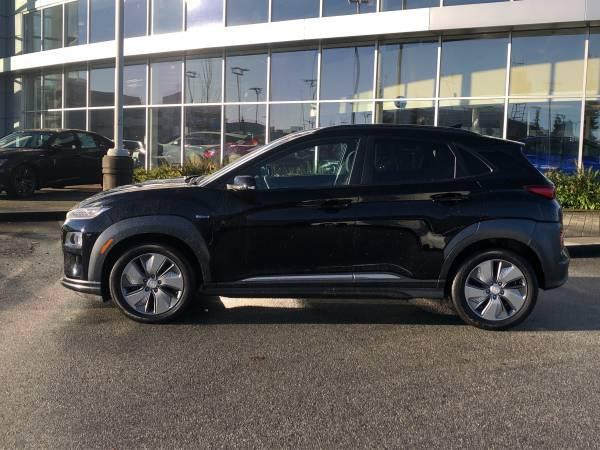Front_Bumper: (56, 216, 115, 304)
Front_Fender: (72, 190, 215, 294)
Front_Left_Door: (202, 190, 349, 300)
Front_Left_Window: (209, 137, 368, 193)
Left_Headlight: (62, 207, 109, 225)
Left_Taillight: (523, 182, 556, 197)
Rear_Bumper: (528, 196, 567, 285)
Rear_Fender: (446, 140, 551, 241)
Rear_Left_Door: (345, 179, 481, 299)
Rear_Left_Window: (356, 135, 472, 188)
Roof: (194, 122, 545, 190)
Wheel: (454, 244, 542, 328), (110, 239, 198, 319)
